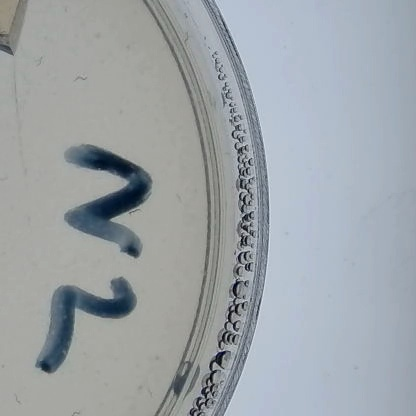worm: (10, 391, 25, 409), (70, 73, 90, 85), (33, 54, 48, 69), (171, 190, 187, 204), (145, 387, 159, 400), (67, 407, 85, 416), (0, 176, 12, 184)
